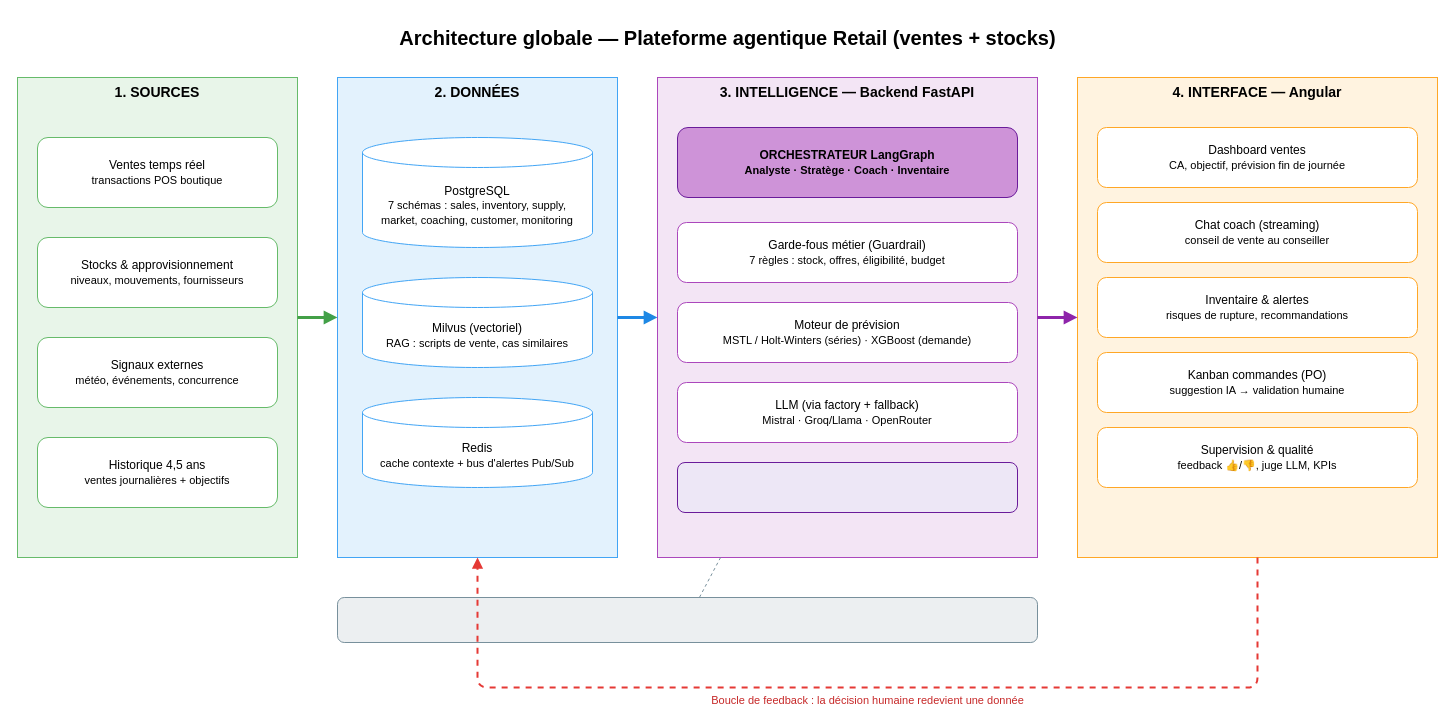
Some shapes in this 1455 by 724 pixel diagram are drawn without their labels. Each missing label, with the centre of its shape:
"API REST + WebSocket + serveur MCP" belongs at pixel 847 487.
"Observabilité — Langfuse (traces LLM) · logs agents · KPIs qualité" belongs at pixel 687 619.
